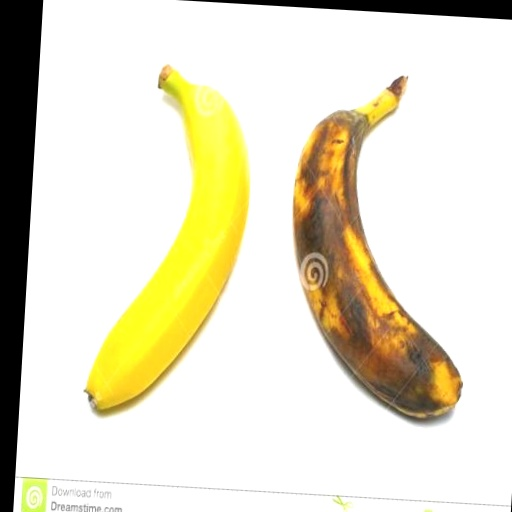fruit: (293, 77, 462, 417), (86, 65, 250, 409)
